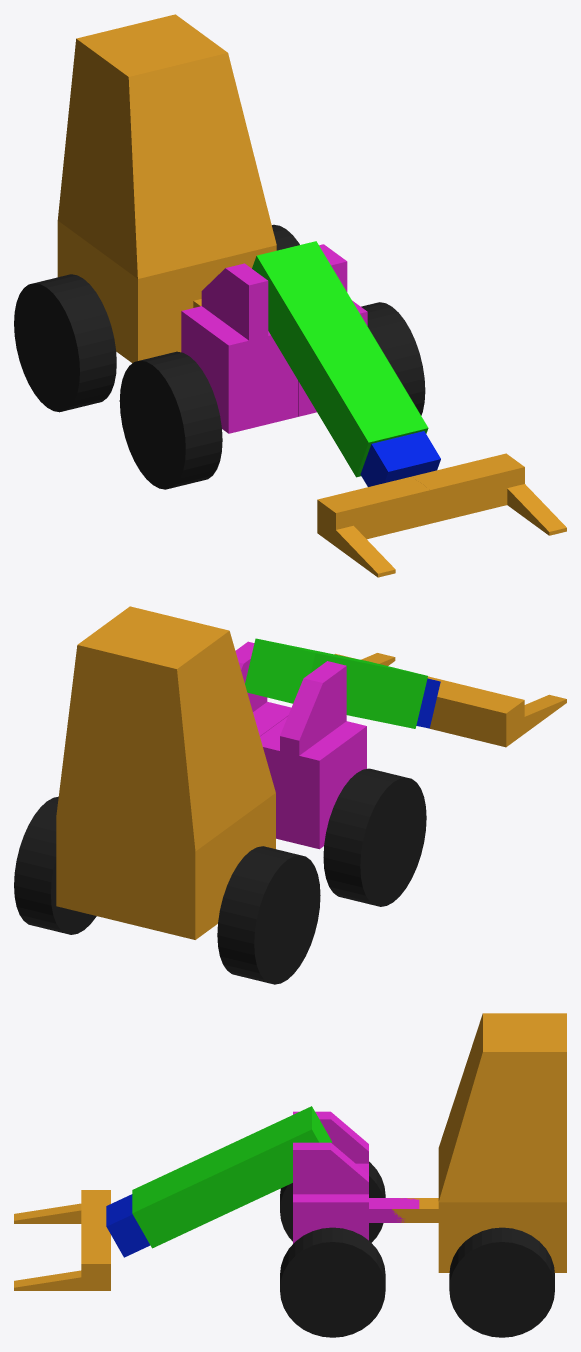
3 renders of one model, top to bottom at view 1: azimuth 30°, elevation 25°; view 2: azimuth 150°, elevation 25°; view 3: azimuth 270°, elevation 25°, orthographic. The views are drawn at different scales.
Visible parts, largest first — view 1: cab, arm, front-pivot, fork, RB Wheel, RF Wheel, LF Wheel, arm-extension; view 2: cab, front-pivot, RB Wheel, RF Wheel, arm, fork, LB Wheel, arm-extension; view 3: cab, arm, LF Wheel, LB Wheel, front-pivot, fork, arm-extension, RF Wheel.
Boxes of the visible parts, left/top/right/bottom form: cab: left=57, top=14, right=276, bottom=363; arm: left=252, top=241, right=428, bottom=477; front-pivot: left=181, top=244, right=367, bottom=433; fork: left=317, top=453, right=566, bottom=577; RB Wheel: left=14, top=274, right=116, bottom=412; RF Wheel: left=119, top=351, right=222, bottom=489; LF Wheel: left=361, top=302, right=425, bottom=415; arm-extension: left=360, top=431, right=440, bottom=486; cab: left=56, top=606, right=275, bottom=939; front-pivot: left=235, top=641, right=366, bottom=849; RB Wheel: left=217, top=846, right=320, bottom=984; RF Wheel: left=323, top=768, right=426, bottom=906; arm: left=245, top=638, right=427, bottom=728; fork: left=334, top=653, right=566, bottom=747; LB Wheel: left=14, top=796, right=96, bottom=934; arm-extension: left=416, top=678, right=440, bottom=728; cab: left=392, top=1013, right=566, bottom=1272; arm: left=132, top=1106, right=331, bottom=1248; LF Wheel: left=280, top=1227, right=385, bottom=1337; LB Wheel: left=449, top=1227, right=554, bottom=1337; front-pivot: left=293, top=1111, right=419, bottom=1243; fork: left=14, top=1190, right=110, bottom=1290; arm-extension: left=106, top=1194, right=150, bottom=1257; RF Wheel: left=280, top=1161, right=385, bottom=1242.
Size of the model in its own units: 3.45 by 4.44 by 8.61.
